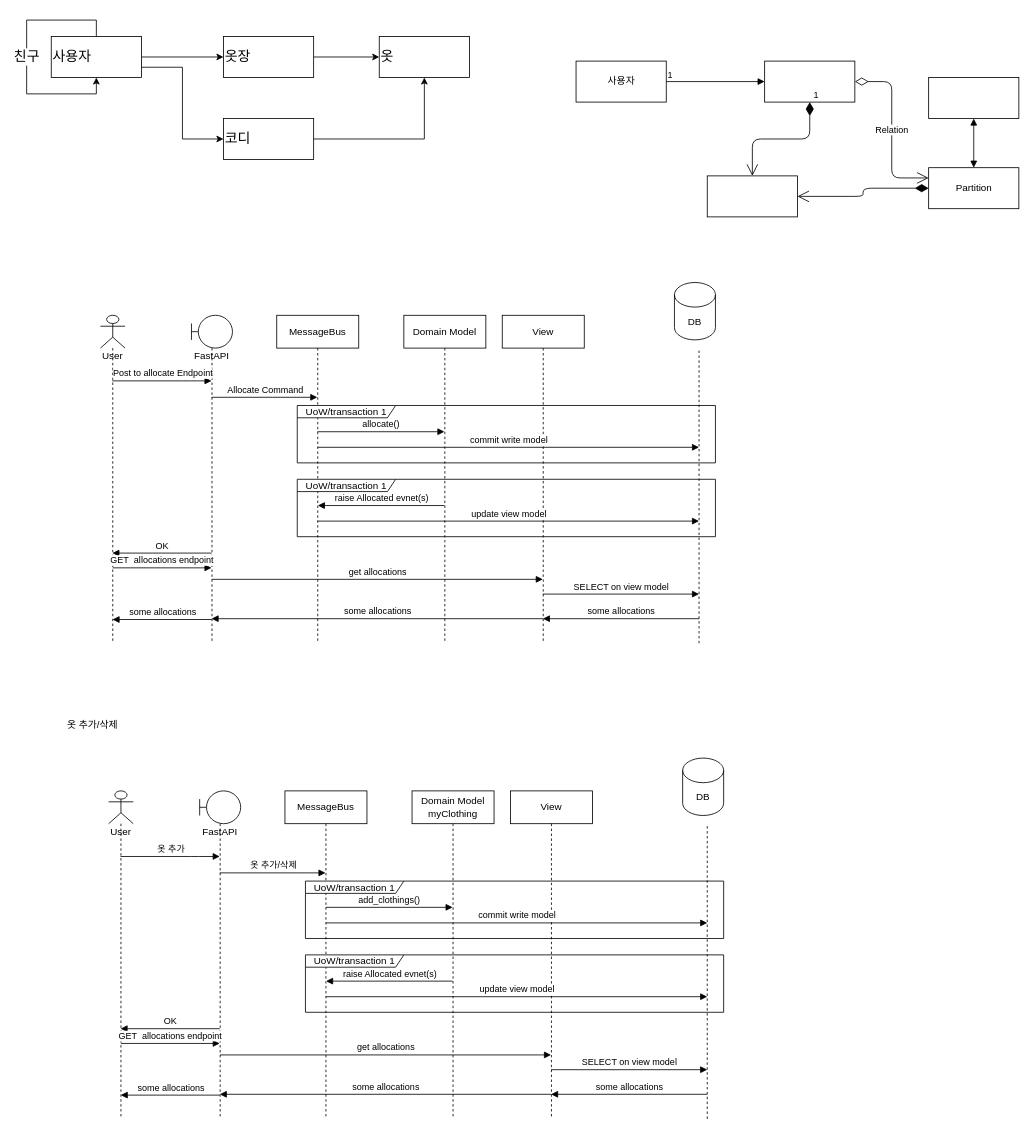
Image size: 1033x1134. Some labels were removed from this diagram. The centre of each missing label's shape, as x and y in pixels:
"Closet" belongs at pixel 973 97.
"Clothing" belongs at pixel 751 196.
"MyClothings" belongs at pixel 809 81.
